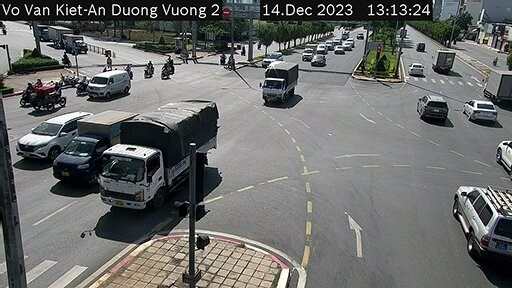car: (444, 184, 512, 254), (15, 106, 87, 160), (80, 75, 134, 101), (419, 93, 447, 123), (462, 98, 493, 122), (258, 48, 288, 70), (499, 133, 512, 182), (405, 59, 429, 77), (309, 52, 325, 68), (299, 48, 312, 63), (334, 44, 345, 54)
truck: (99, 112, 208, 209), (57, 104, 116, 196), (253, 58, 305, 116), (482, 61, 512, 111), (432, 44, 455, 74)
